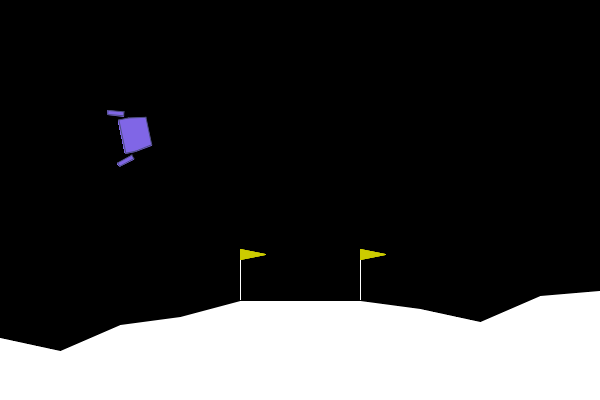lander: (105, 102, 157, 169)
